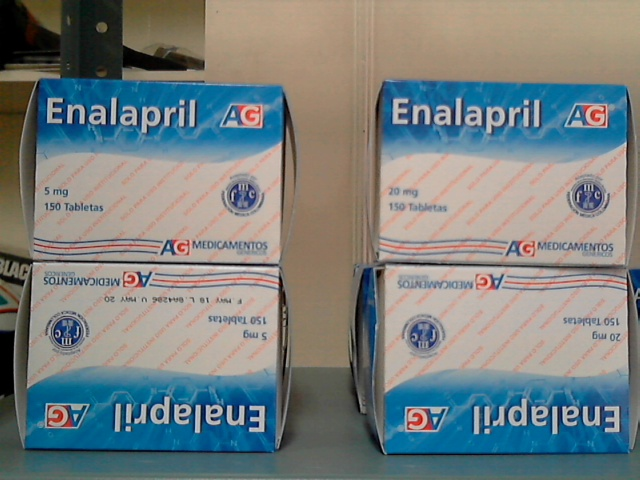AG: (31, 264, 276, 452), (384, 268, 628, 455), (38, 80, 280, 264), (384, 80, 623, 264)
